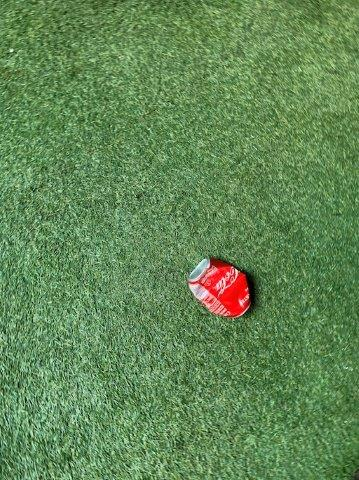kaleng: (189, 260, 249, 316)
